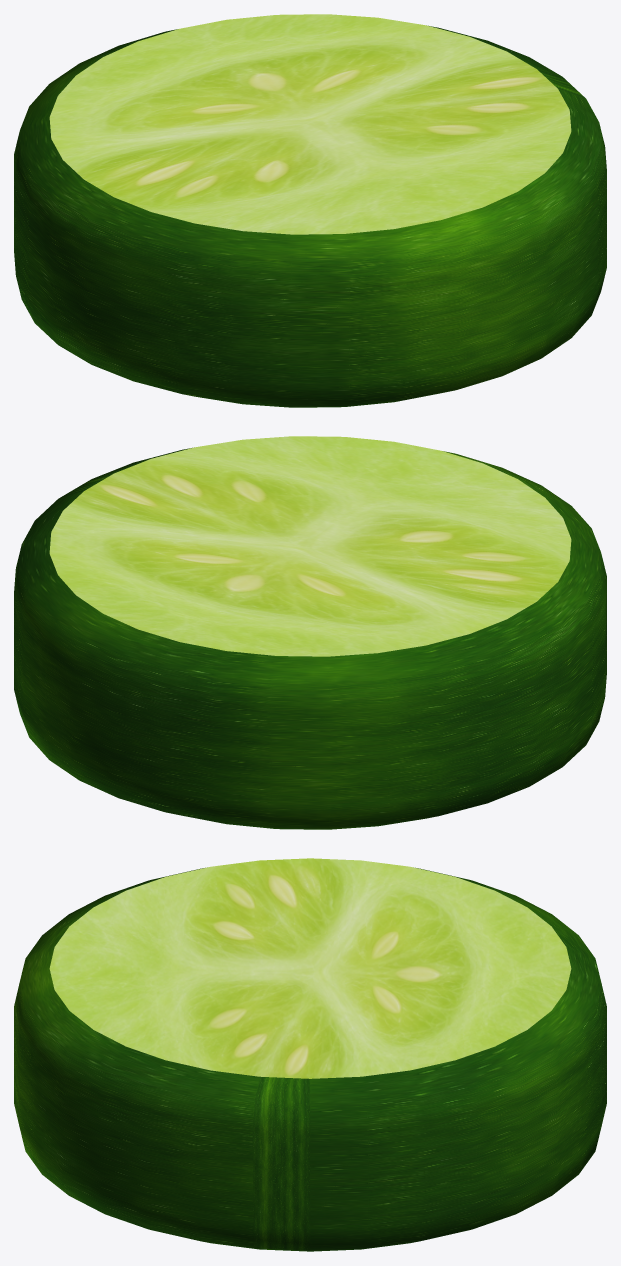
File: cucumber_slice-CnKrNAC6.glb
3 views of the same model, one above another, from view 1: azimuth 30°, elevation 25°; view 2: azimuth 150°, elevation 25°; view 3: azimuth 270°, elevation 25° (orthographic).
Parts seen in each view (by area): view 1: FLC_cucumber_slice; view 2: FLC_cucumber_slice; view 3: FLC_cucumber_slice.
Boxes of the visible parts, x1,y1,x2,y2 form: FLC_cucumber_slice: [14, 14, 606, 407]; FLC_cucumber_slice: [14, 436, 606, 829]; FLC_cucumber_slice: [14, 858, 606, 1251].
Bounding box in the file's own units: 0.28 × 0.09 × 0.28.
1 material, 1 textured.
